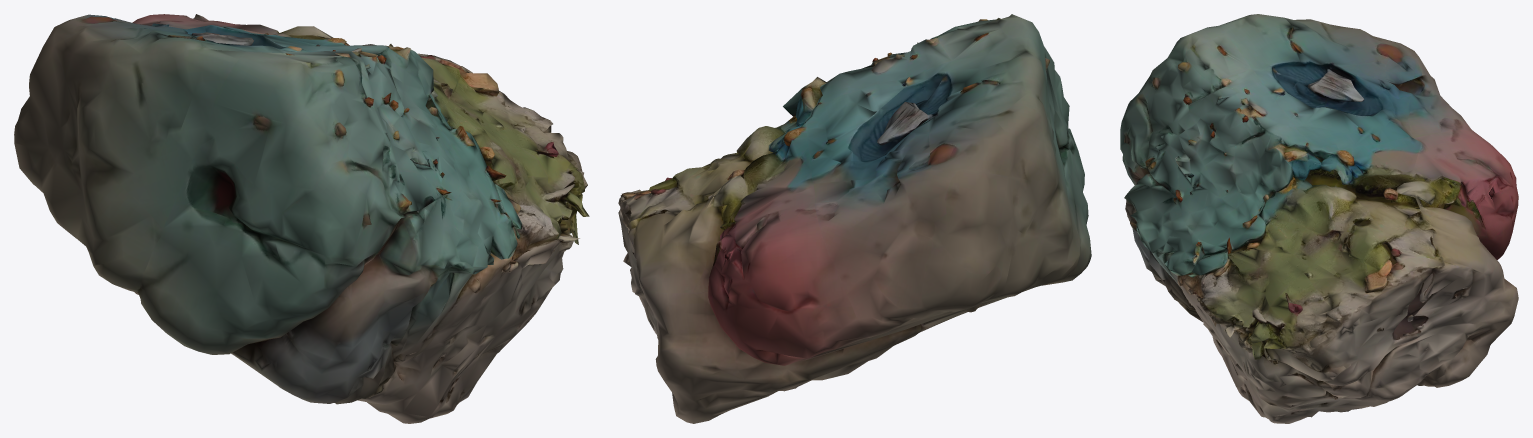
The model's file is mosaic_rock.glb.
The picture shows the model from 3 angles, left to right: view 1: azimuth 30°, elevation 25°; view 2: azimuth 150°, elevation 25°; view 3: azimuth 270°, elevation 25°; orthographic projection. The views are drawn at different scales.
Parts seen in each view (by area): view 1: tripo_node_e2ec6aa6; view 2: tripo_node_e2ec6aa6; view 3: tripo_node_e2ec6aa6.
Part boxes in pixels (x1,y1,x2,y2): tripo_node_e2ec6aa6: (14,14,589,423); tripo_node_e2ec6aa6: (618,14,1091,423); tripo_node_e2ec6aa6: (1120,14,1518,423).
Size of the model in its own units: 0.9807 by 0.8106 by 0.9383.
1 material, 1 textured.
